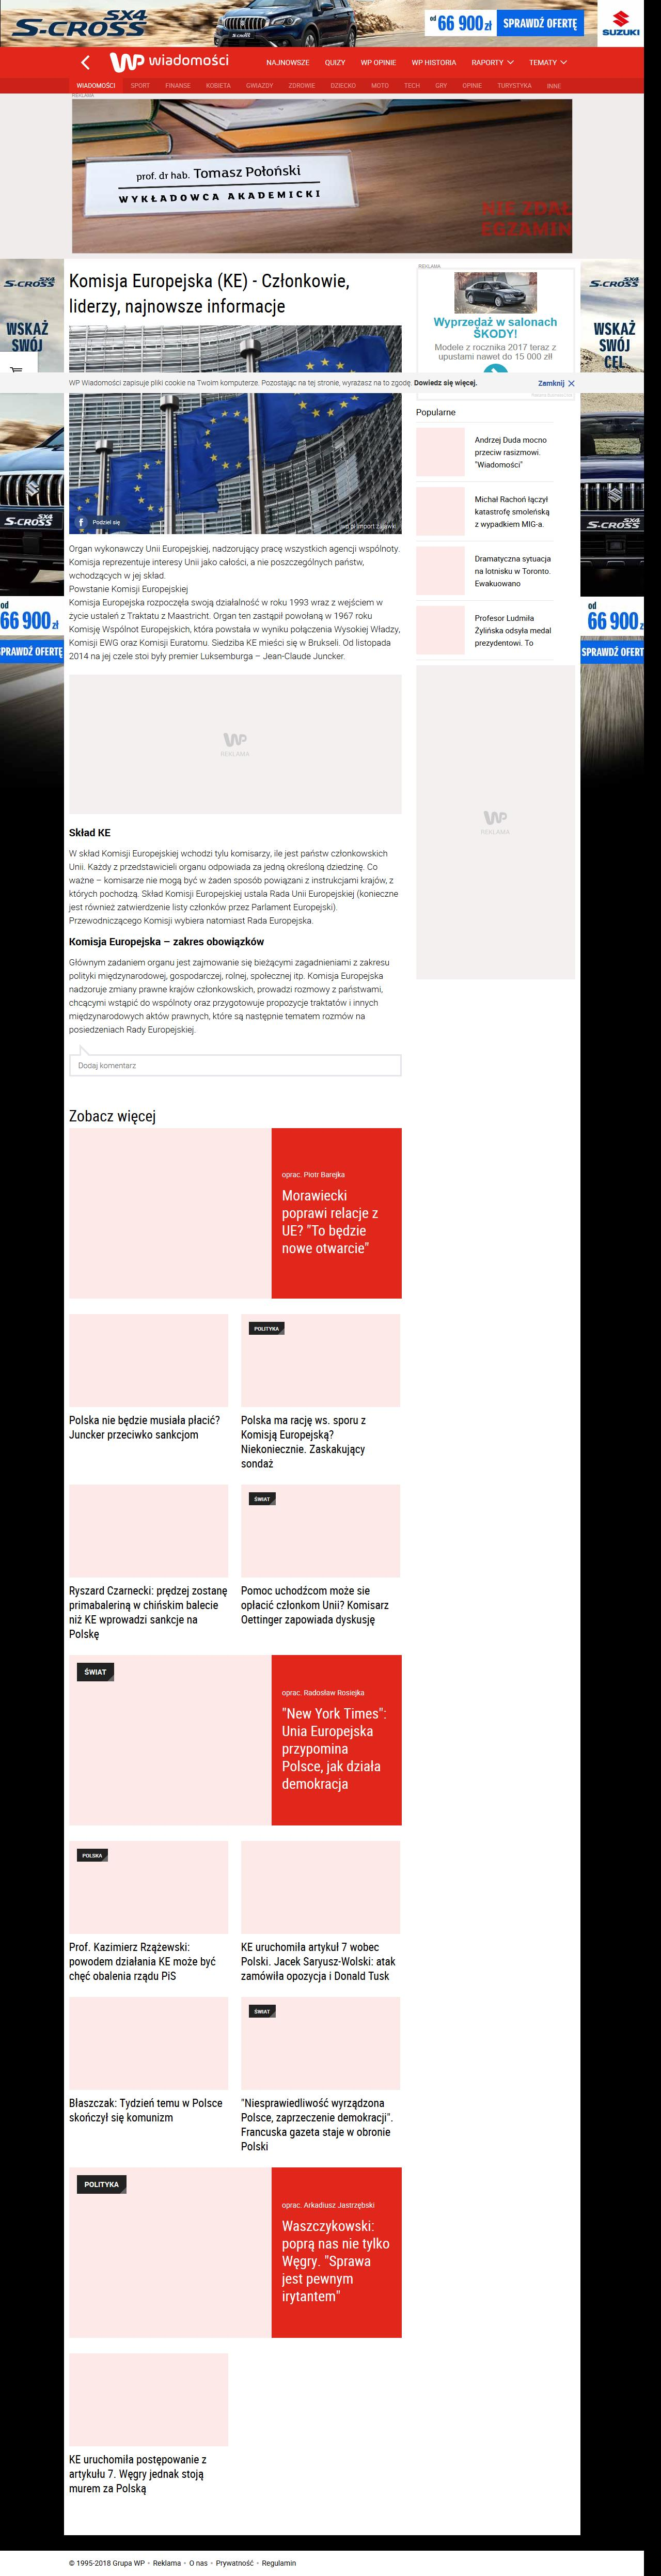title: (69, 271, 354, 317)
